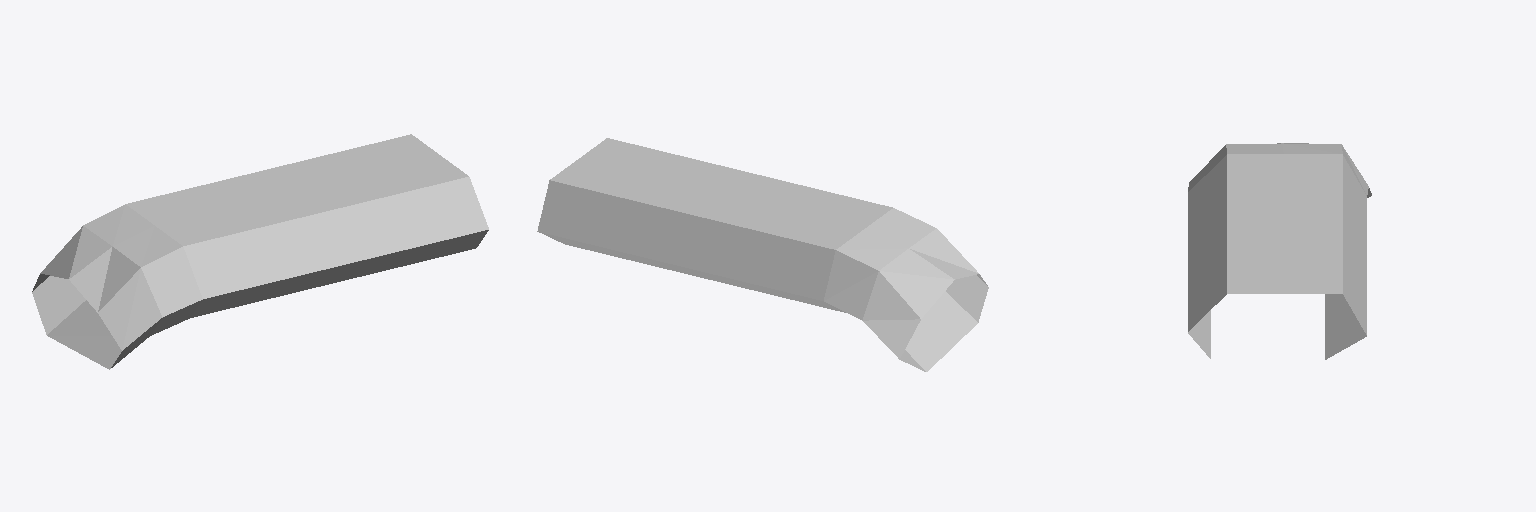
Rendered from cape_test.obj.
3 renders of one model, left to right at view 1: azimuth 30°, elevation 25°; view 2: azimuth 150°, elevation 25°; view 3: azimuth 270°, elevation 25°, orthographic.
Parts seen in each view (by area): view 1: Plane; view 2: Plane; view 3: Plane.
Boxes of the visible parts, x1=… form: Plane: x1=32, y1=134, x2=488, y2=369; Plane: x1=537, y1=138, x2=988, y2=371; Plane: x1=1188, y1=143, x2=1371, y2=359.
Size of the model in its own units: 2.2 by 0.5966 by 0.9406.